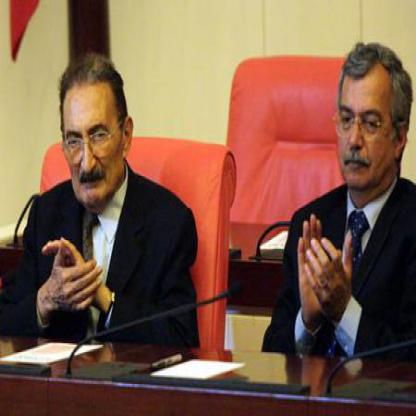face: (334, 47, 401, 197), (60, 67, 126, 214)
